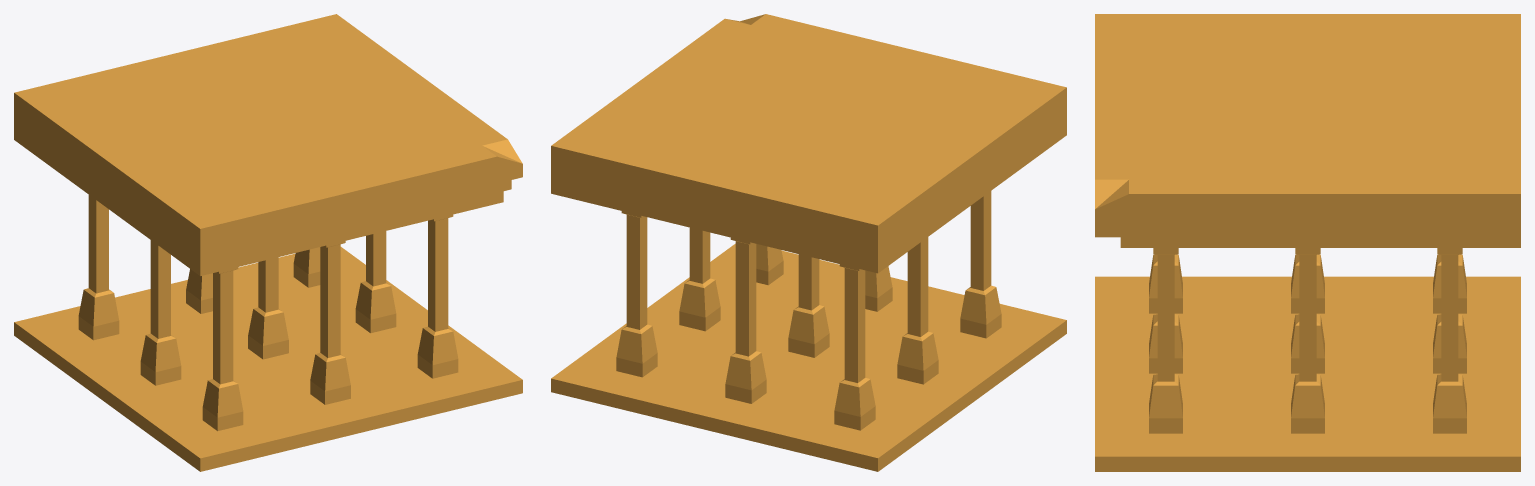
Rendered from hindu-pillars-corner.fbx.
The picture shows the model from 3 angles, left to right: view 1: azimuth 30°, elevation 25°; view 2: azimuth 150°, elevation 25°; view 3: azimuth 270°, elevation 25°; orthographic projection. The views are drawn at different scales.
Parts seen in each view (by area): view 1: hindu-pillars-corner; view 2: hindu-pillars-corner; view 3: hindu-pillars-corner.
Boxes of the visible parts, left/top/right/bottom form: hindu-pillars-corner: left=14, top=14, right=522, bottom=471; hindu-pillars-corner: left=551, top=14, right=1066, bottom=471; hindu-pillars-corner: left=1095, top=14, right=1520, bottom=471.
Size of the model in its own units: 5 by 3.6 by 5.
